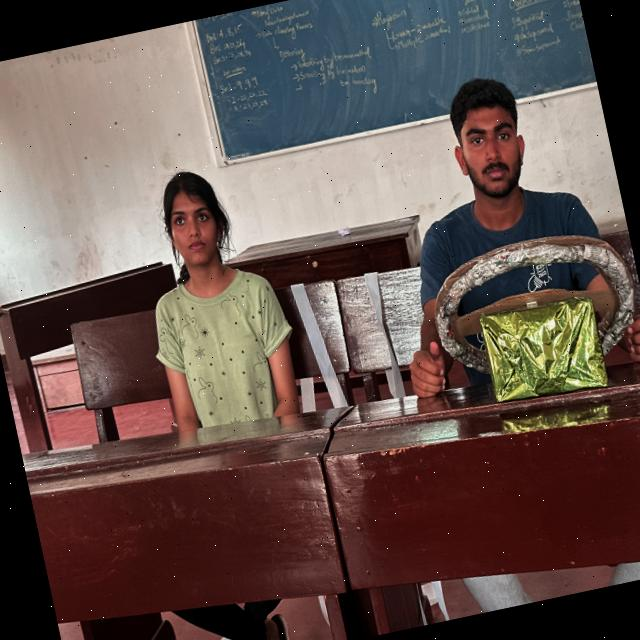no-seatbelt: (414, 163, 639, 433), (134, 254, 334, 452)
